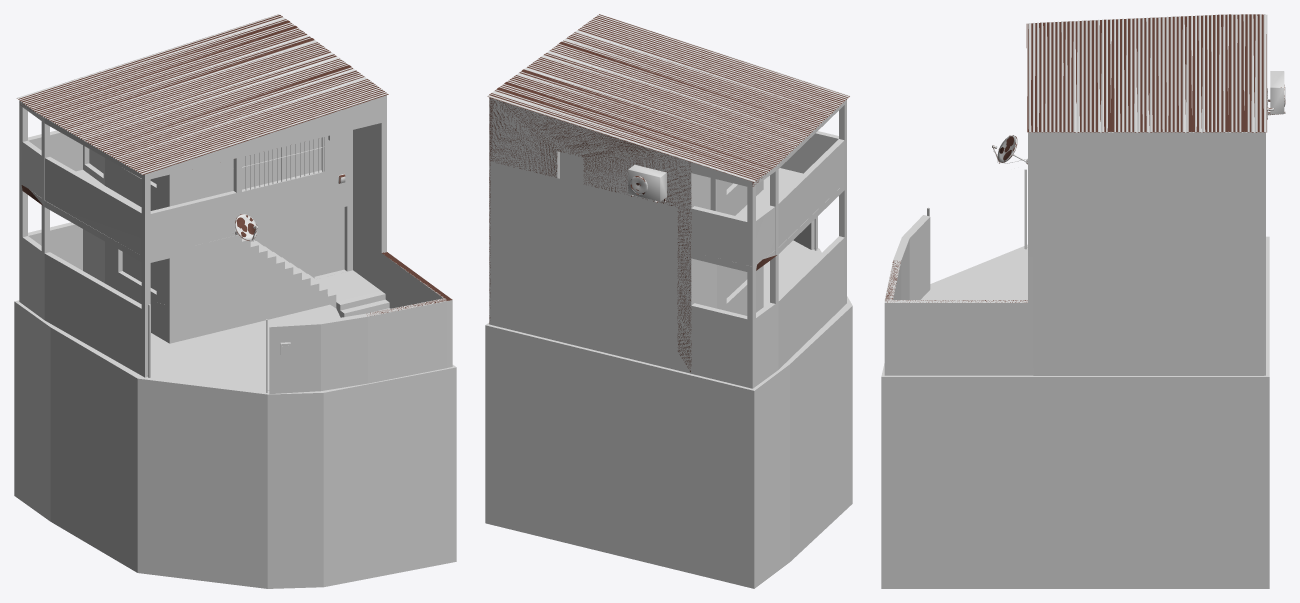
The model's file is CASA13.fbx.
3 views of the same model, side by side, from view 1: azimuth 30°, elevation 25°; view 2: azimuth 150°, elevation 25°; view 3: azimuth 270°, elevation 25° (orthographic). The views are drawn at different scales.
Visible parts, largest first — view 1: CASA13_LOD0, CUBE_LOD0, UTM_CASA13; view 2: CUBE_LOD0, CASA13_LOD0, UTM_CASA13, OCC_OCLUSION2; view 3: CUBE_LOD0, OCC_OCLUSION1, CASA13_LOD0, UTM_CASA13.
Boxes of the visible parts, x1=… form: CASA13_LOD0: x1=16, y1=14, x2=452, y2=394; CUBE_LOD0: x1=14, y1=300, x2=456, y2=588; UTM_CASA13: x1=17, y1=15, x2=452, y2=315; CUBE_LOD0: x1=485, y1=240, x2=852, y2=588; CASA13_LOD0: x1=487, y1=14, x2=850, y2=388; UTM_CASA13: x1=487, y1=14, x2=849, y2=371; OCC_OCLUSION2: x1=490, y1=162, x2=677, y2=370; CUBE_LOD0: x1=881, y1=236, x2=1269, y2=588; OCC_OCLUSION1: x1=1033, y1=135, x2=1264, y2=375; CASA13_LOD0: x1=884, y1=14, x2=1285, y2=375; UTM_CASA13: x1=885, y1=14, x2=1285, y2=302.
Size of what is drawn, in the model's own units: 907 by 1374 by 1103.
